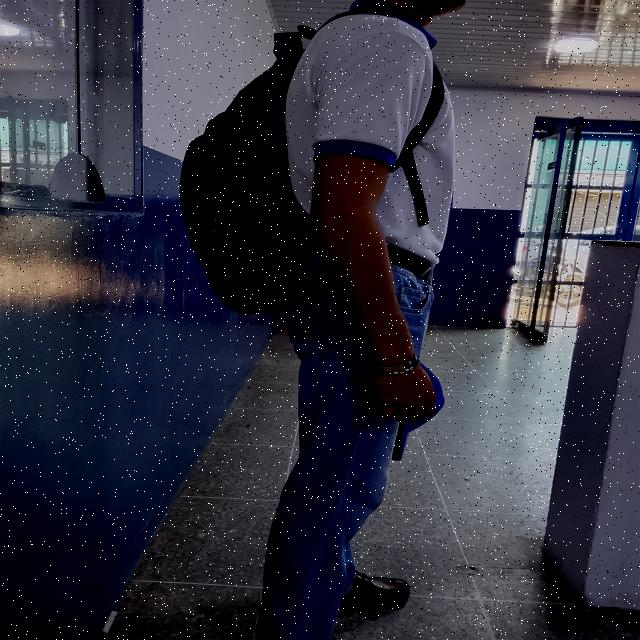uniforme_superior: (285, 0, 455, 266)
